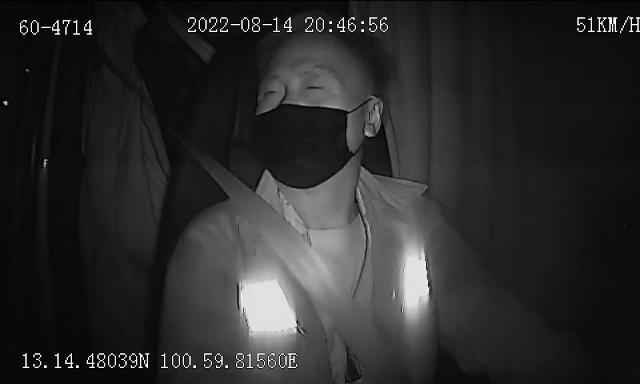Seatbelt: (202, 144, 414, 384)
